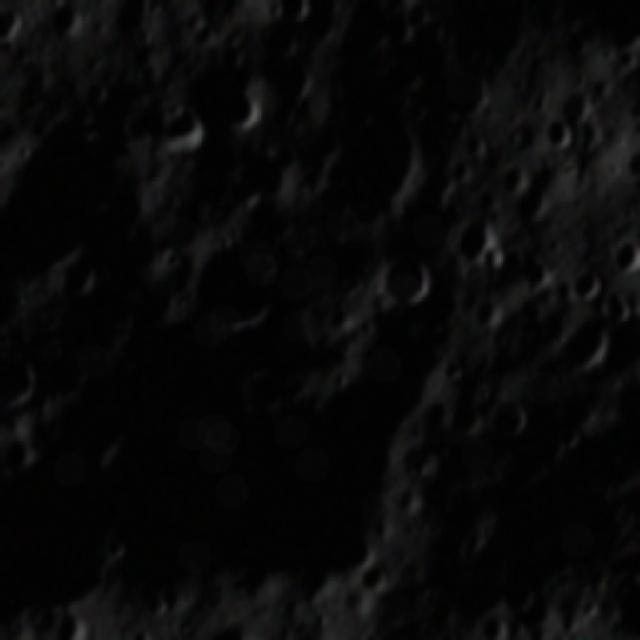crater: (333, 112, 424, 217), (162, 98, 212, 159), (460, 203, 508, 262), (379, 257, 435, 305), (454, 58, 504, 107), (567, 324, 611, 367), (220, 93, 272, 125), (0, 0, 32, 52), (621, 572, 640, 639), (575, 263, 607, 302), (46, 1, 86, 32), (48, 607, 85, 640), (608, 293, 638, 321), (617, 240, 640, 272), (547, 122, 573, 150), (631, 144, 640, 174), (338, 635, 373, 640)
